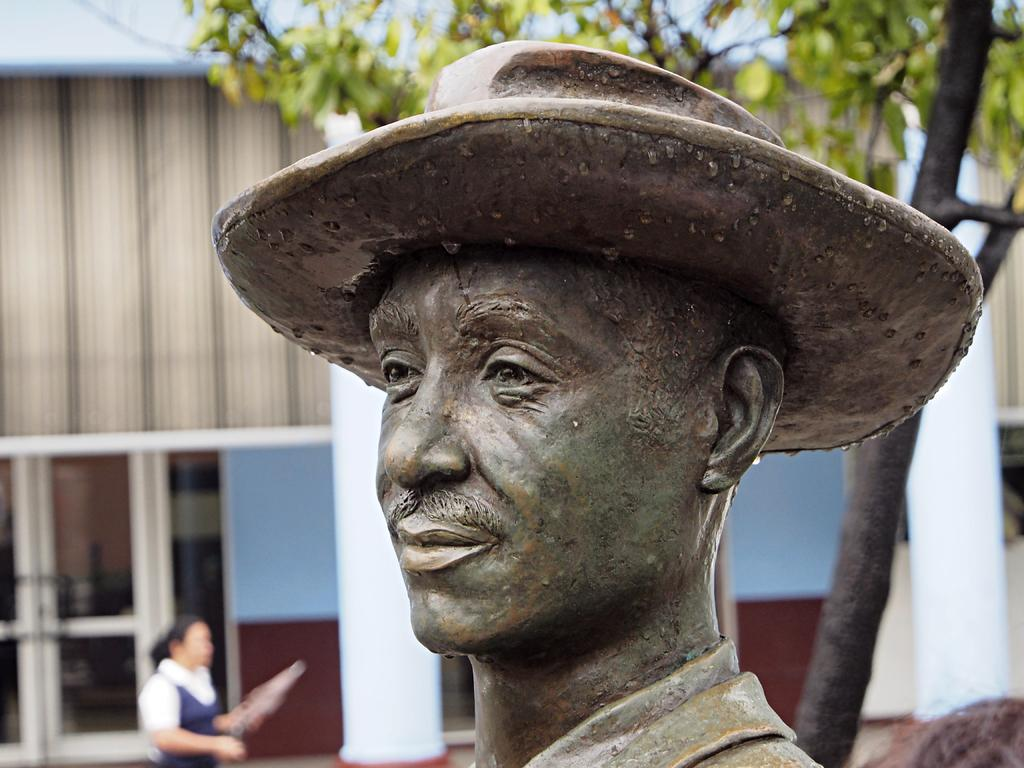Hat: (208, 39, 983, 454)
